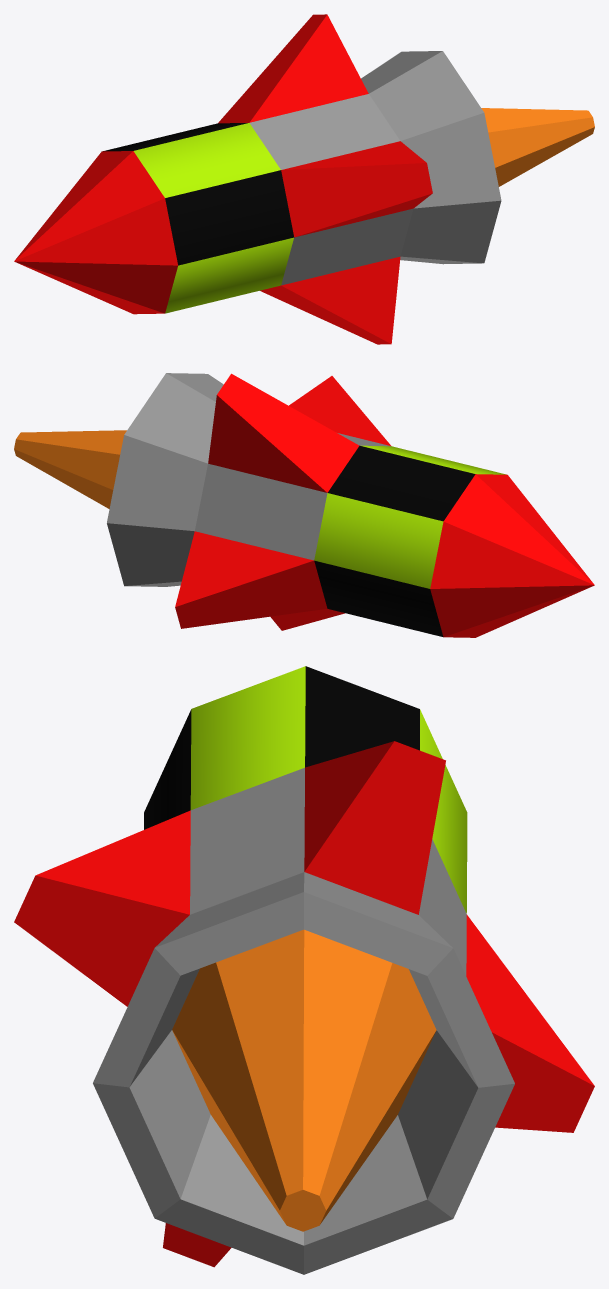
File: missil.FBX
The picture shows the model from 3 angles, top to bottom: view 1: azimuth 30°, elevation 25°; view 2: azimuth 150°, elevation 25°; view 3: azimuth 270°, elevation 25°; orthographic projection. The views are drawn at different scales.
Visible parts, largest first — view 1: Cylinder001; view 2: Cylinder001; view 3: Cylinder001.
Part boxes in pixels (x1,y1,x2,y2): Cylinder001: [14, 14, 594, 344]; Cylinder001: [14, 373, 594, 637]; Cylinder001: [14, 666, 594, 1274].
Bounding box in the file's own units: 168 × 82.13 × 82.13.
